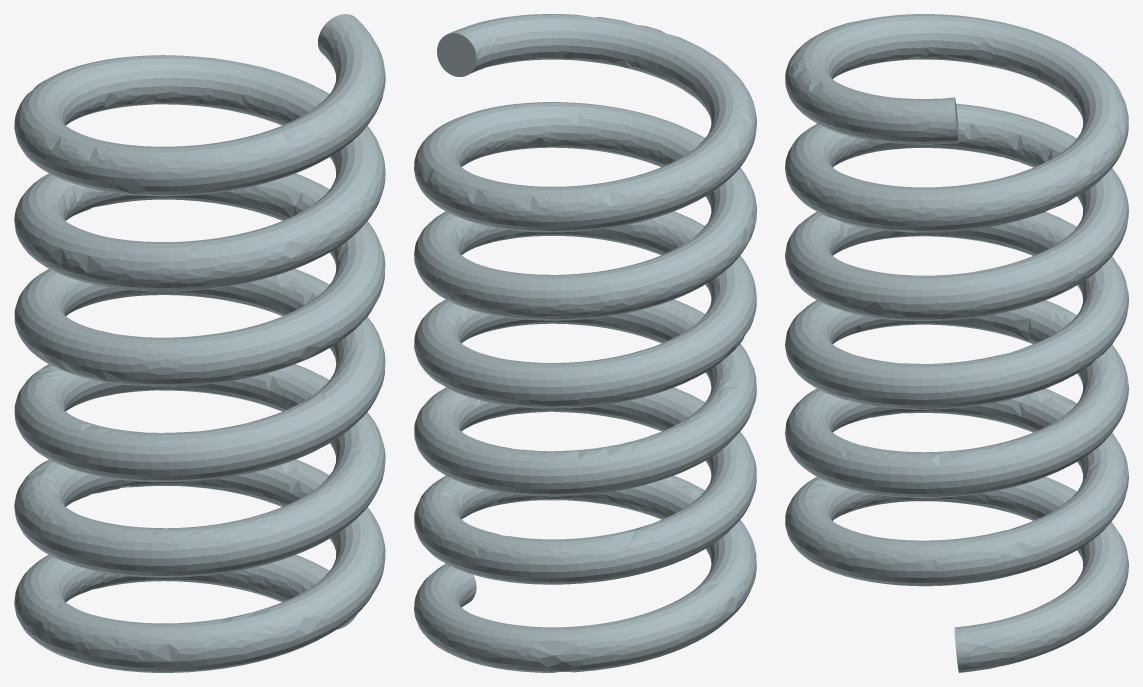
File: valve-spring.glb
3 renders of one model, left to right at view 1: azimuth 30°, elevation 25°; view 2: azimuth 150°, elevation 25°; view 3: azimuth 270°, elevation 25°, orthographic. The views are drawn at different scales.
Parts seen in each view (by area): view 1: world; view 2: world; view 3: world.
Boxes of the visible parts, left/top/right/bottom form: world: left=14, top=14, right=385, bottom=672; world: left=414, top=14, right=756, bottom=672; world: left=785, top=14, right=1128, bottom=672.
Bounding box in the file's own units: 0.03 × 0.055 × 0.03.
